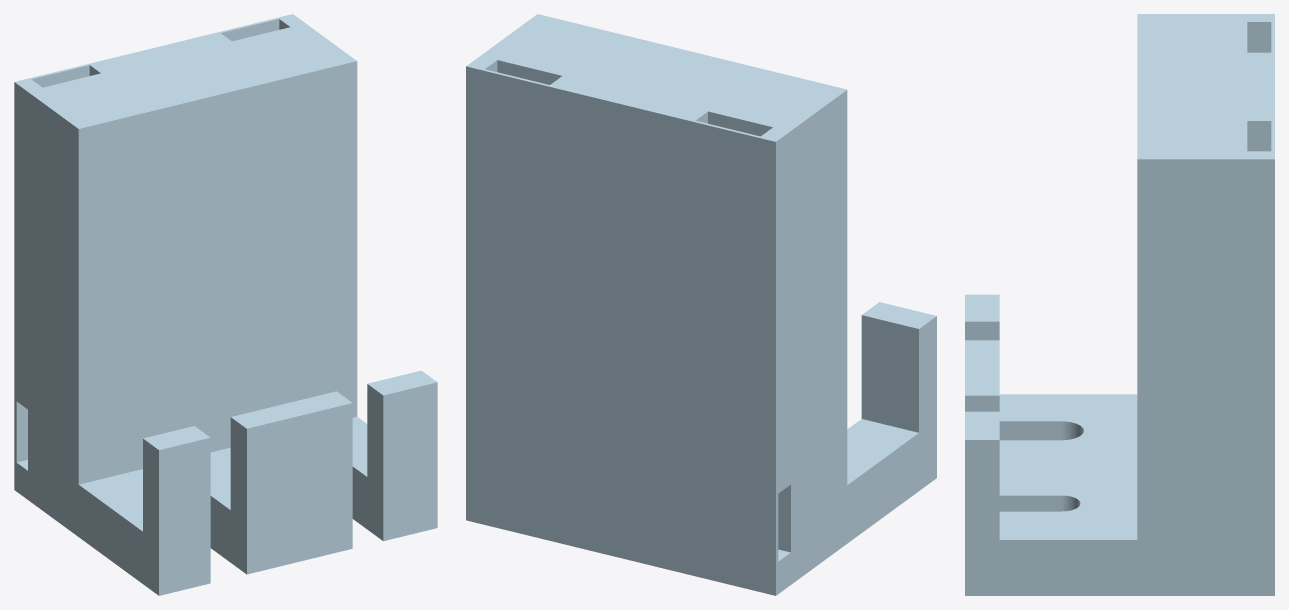
Rendered from part_studio_fc5bbfa.gltf.
3 views of the same model, side by side, from view 1: azimuth 30°, elevation 25°; view 2: azimuth 150°, elevation 25°; view 3: azimuth 270°, elevation 25° (orthographic). The views are drawn at different scales.
Parts seen in each view (by area): view 1: Part 1; view 2: Part 1; view 3: Part 1.
Boxes of the visible parts, x1,y1,x2,y2 form: Part 1: (14,14,437,595); Part 1: (466,14,936,595); Part 1: (965,14,1274,595).
Size of the model in its own units: 0.05 by 0.07 by 0.045.
